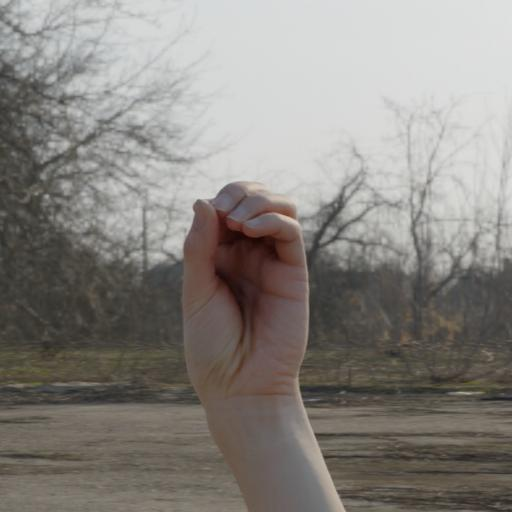O: (165, 174, 353, 512)
